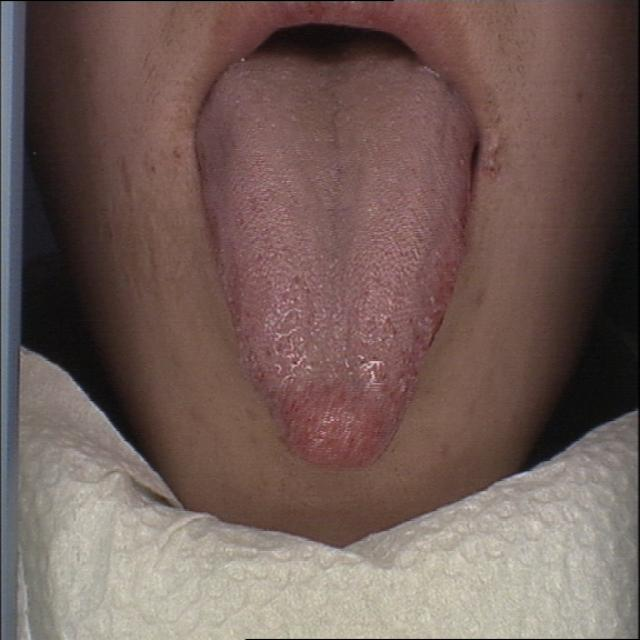tongue: (188, 44, 488, 476)
